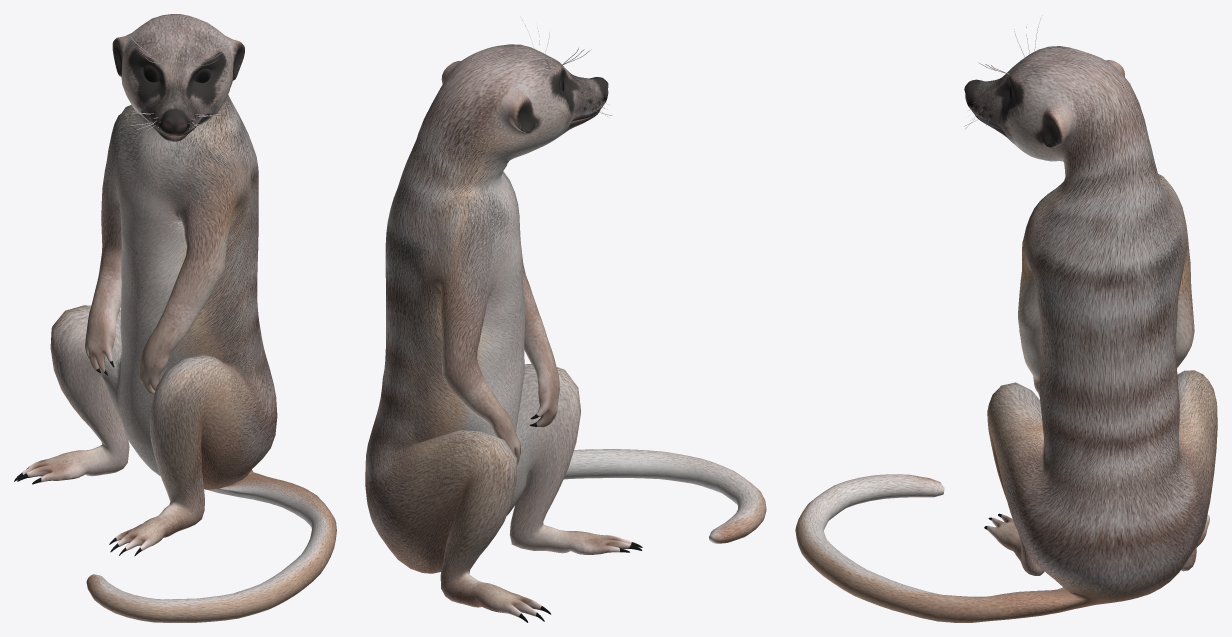
Rendered from suricata.glb.
The picture shows the model from 3 angles, left to right: view 1: azimuth 30°, elevation 25°; view 2: azimuth 150°, elevation 25°; view 3: azimuth 270°, elevation 25°; orthographic projection. The views are drawn at different scales.
Visible parts, largest first — view 1: node_id117; view 2: node_id117; view 3: node_id117.
Part boxes in pixels (x1,y1,x2,y2): node_id117: (14,14,336,622); node_id117: (365,18,766,622); node_id117: (795,15,1217,622).
Size of the model in its own units: 0.2847 by 0.512 by 0.3676.
1 material, 1 textured.
